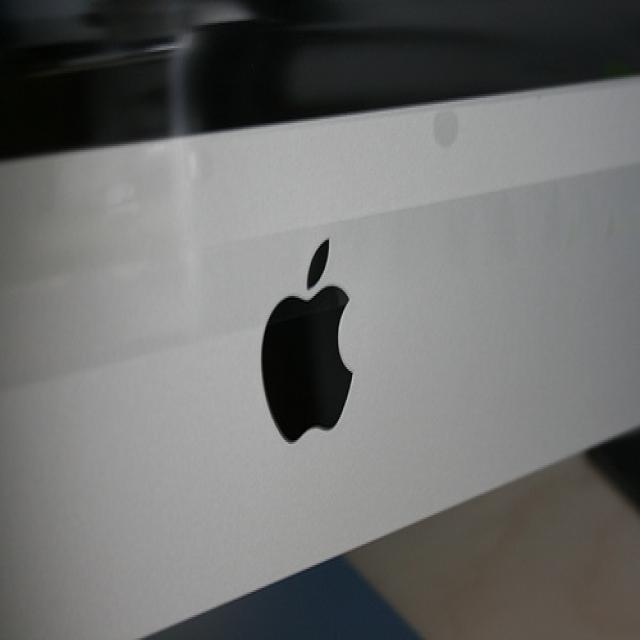apple: (246, 219, 361, 461)
